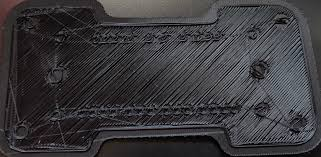fail: (13, 10, 316, 145)
